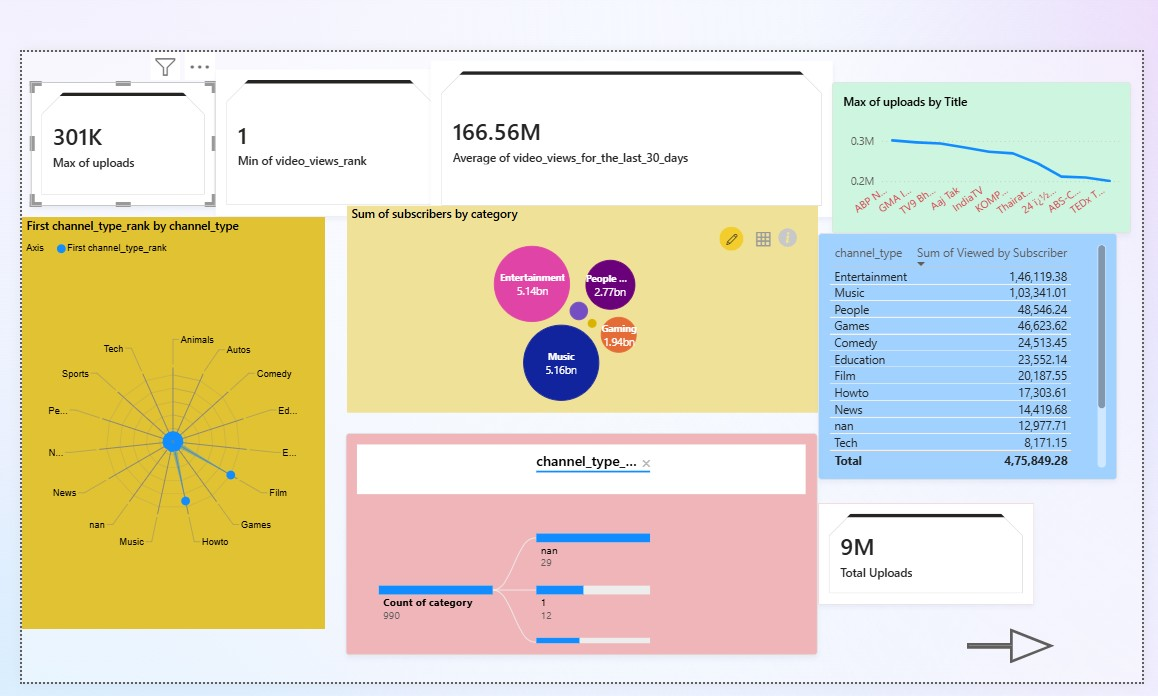

The dashboard page shown, as its layout file describes it:
{"tool":"powerbi","page":{"name":"Page 1","canvas":[1280,720],"ordinal":0},"visuals":[{"type":"cardVisual","fields":{"Data":["Max(Global YouTube Statistics.uploads)"]},"box":[10,34.3,211.4,141.4],"z":0},{"type":"cardVisual","fields":{"Data":["Min(Global YouTube Statistics.video_views_rank)"]},"box":[220.9,20.6,259.3,167.4],"z":1},{"type":"cardVisual","fields":{"Data":["Avg(Global YouTube Statistics.video_views_for_the_last_30_days)"]},"box":[466.6,9.6,459.7,178.4],"z":2},{"type":"lineChart","fields":{"Category":["Global YouTube Statistics.Title"],"Y":["Max(Global YouTube Statistics.uploads)"]},"box":[926.2,34.3,341.7,172.9],"z":3},{"type":"RadarChart1446119667547","fields":{"Category":["Global YouTube Statistics.channel_type"],"Y":["Min(Global YouTube Statistics.channel_type_rank)"]},"box":[0,188.3,345.5,470.1],"z":4},{"type":"packedBubble563FBEFA65CC43A48496B6BB533D9890","fields":{"category":["Global YouTube Statistics.category"],"measure":["Sum(Global YouTube Statistics.subscribers)"]},"box":[371.4,175.3,537.7,236.4],"z":5},{"type":"tableEx","fields":{"Values":["Global YouTube Statistics.channel_type","Sum(Global YouTube Statistics.Viewed by Subscriber)"]},"box":[909.8,207.2,341.7,281.3],"z":6},{"type":"cardVisual","fields":{"Data":["Global YouTube Statistics.Total Uploads"]},"box":[910.4,515.6,246.8,115.6],"z":7},{"type":"decompositionTreeVisual","fields":{"Analyze":["CountNonNull(Global YouTube Statistics.category)"],"ExplainBy":["Global YouTube Statistics.channel_type_rank"]},"box":[370.1,436.4,539,253.2],"z":8},{"type":"actionButton","box":[1080.5,658.4,100,40.3],"z":9}]}

Visuals, with their boxes on the page's 1280x720 design canvas (x1, y1, x2, y2). These are canvas units, not pixel positions in the 1158x696 screenshot, which may show the page scaled, cropped or inside an application window:
cardVisual - Max(Global YouTube Statistics.uploads): locate(10, 34, 221, 176)
cardVisual - Min(Global YouTube Statistics.video_views_rank): locate(221, 21, 480, 188)
cardVisual - Avg(Global YouTube Statistics.video_views_for_the_last_30_days): locate(467, 10, 926, 188)
lineChart - Global YouTube Statistics.Title x Max(Global YouTube Statistics.uploads): locate(926, 34, 1268, 207)
RadarChart1446119667547 - Global YouTube Statistics.channel_type x Min(Global YouTube Statistics.channel_type_rank): locate(0, 188, 346, 658)
packedBubble563FBEFA65CC43A48496B6BB533D9890 - Global YouTube Statistics.category x Sum(Global YouTube Statistics.subscribers): locate(371, 175, 909, 412)
tableEx - Global YouTube Statistics.channel_type x Sum(Global YouTube Statistics.Viewed by Subscriber): locate(910, 207, 1252, 488)
cardVisual - Global YouTube Statistics.Total Uploads: locate(910, 516, 1157, 631)
decompositionTreeVisual - CountNonNull(Global YouTube Statistics.category) x Global YouTube Statistics.channel_type_rank: locate(370, 436, 909, 690)
actionButton: locate(1080, 658, 1180, 699)
